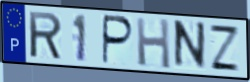1: (71, 13, 89, 64)
H: (135, 16, 173, 71)
N: (172, 19, 207, 72)
P: (100, 13, 136, 66)
R: (27, 10, 64, 62)
Z: (208, 23, 242, 74)
